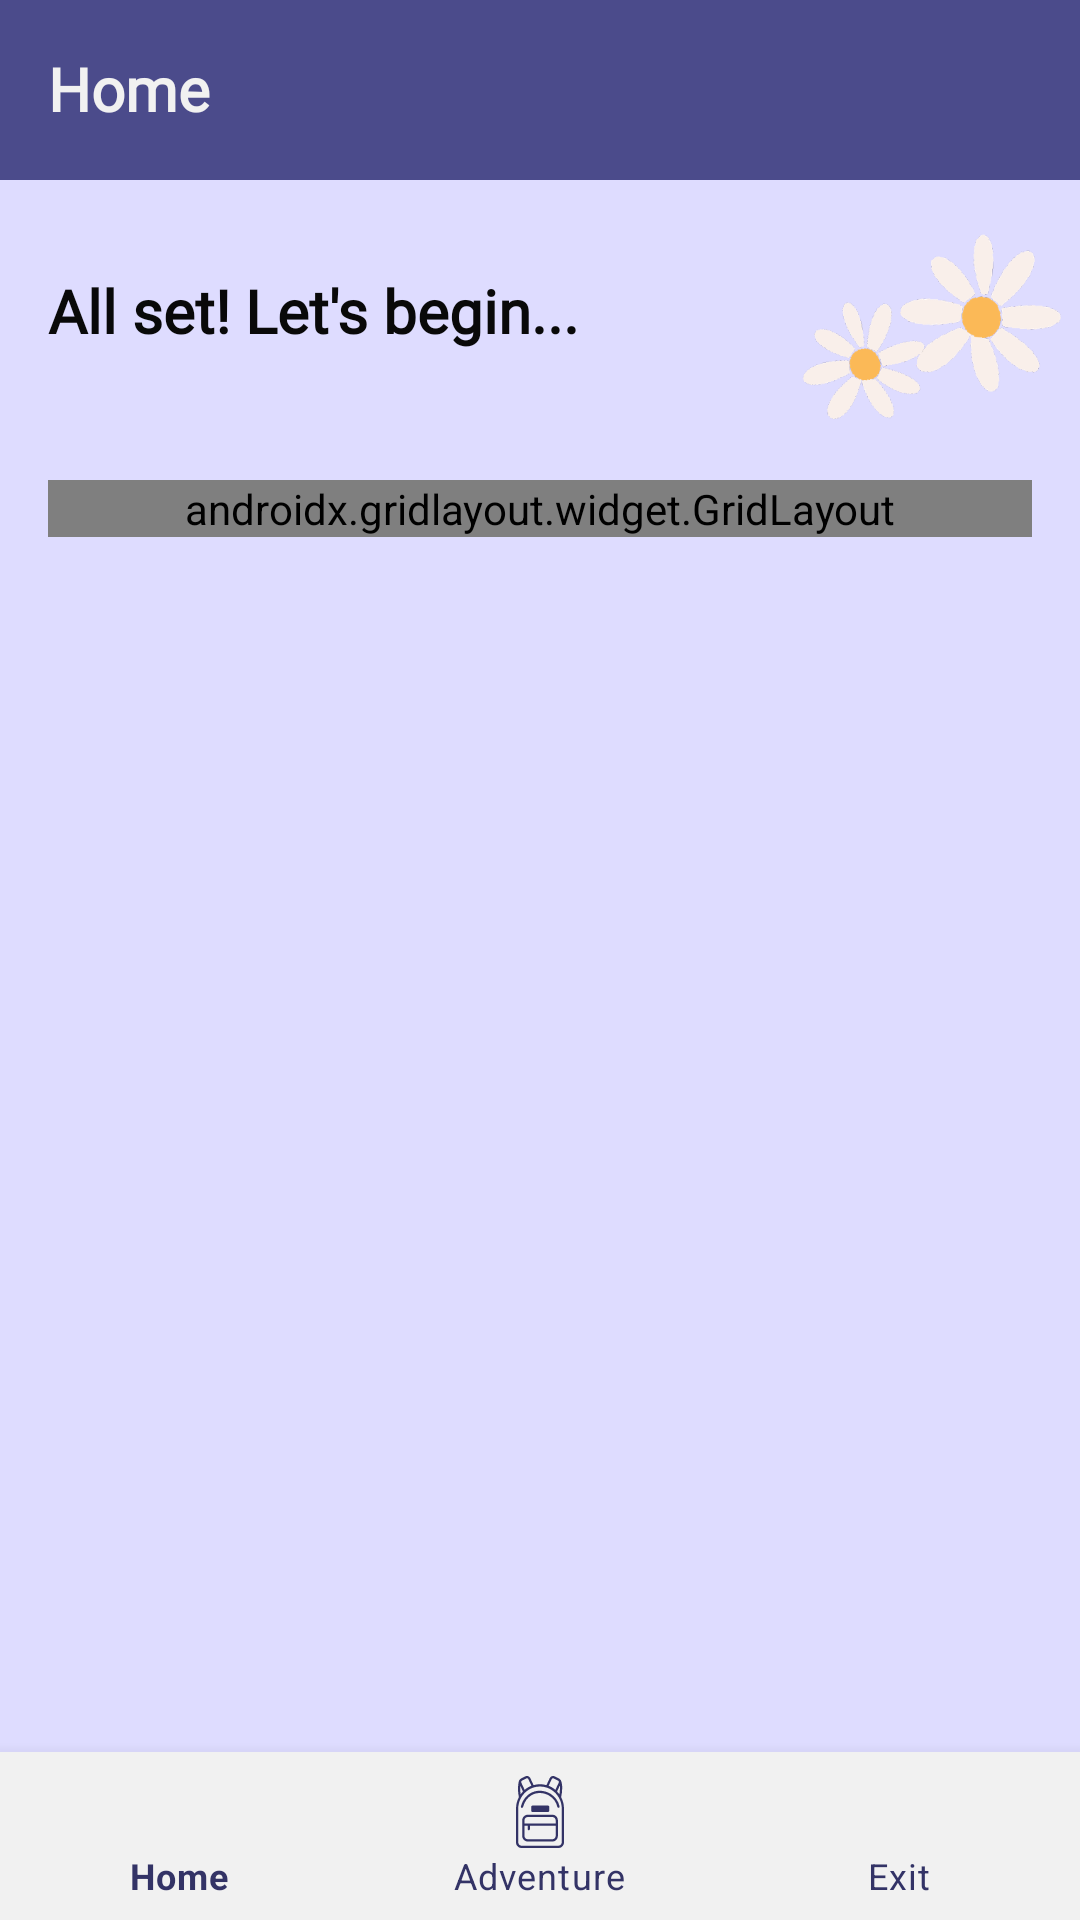

Named icons in this screenshot (1080x1920) and their bounding boxes, (x1=x1, y1=y1, x2=x2, y2=y2):
flowers: (x1=804, y1=235, x2=1060, y2=419)
